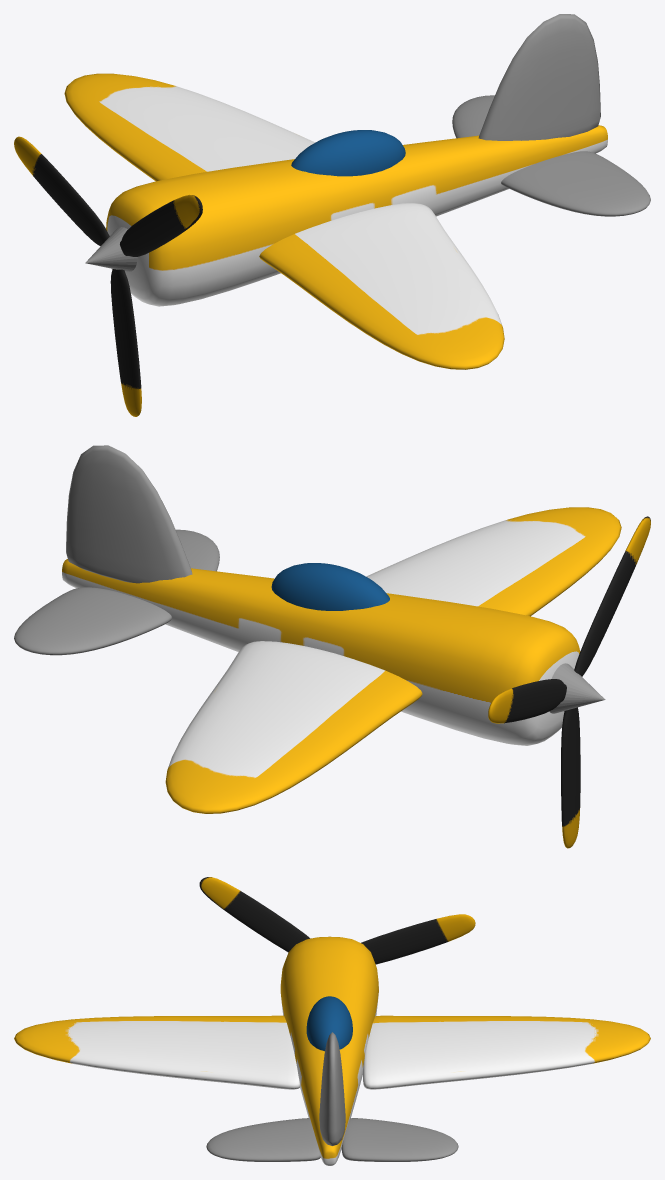
The model's file is avioneta.FBX.
3 renders of one model, top to bottom at view 1: azimuth 30°, elevation 25°; view 2: azimuth 150°, elevation 25°; view 3: azimuth 270°, elevation 25°, orthographic. The views are drawn at different scales.
Parts seen in each view (by area): view 1: Cube.004, plane, Cube.006, Cube.005, Sphere, Cube.001, Cube, Cube.002, Cone; view 2: Cube.004, plane, Cube.006, Cube.005, Sphere, Cube.002, Cube.001, Cube, Cone; view 3: Cube.004, plane, Cube.005, Cube.002, Cube, Cube.006, Sphere.
Part boxes in pixels (x1,y1,x2,y2): Cube.004: (64,73,504,369); plane: (106,125,607,306); Cube.006: (478,14,600,140); Cube.005: (452,95,650,216); Sphere: (291,130,405,176); Cube.001: (110,269,141,416); Cube: (14,136,109,245); Cube.002: (120,195,202,256); Cone: (85,227,137,271); Cube.004: (165,507,621,813); plane: (62,559,580,745); Cube.006: (66,445,192,583); Cube.005: (14,529,219,655); Sphere: (271,563,389,610); Cube.002: (574,516,650,676); Cube.001: (561,707,580,848); Cube: (488,679,566,723); Cone: (549,663,605,713); Cube.004: (14,1015,650,1089); plane: (280,936,378,1165); Cube.005: (206,1118,458,1161); Cube.002: (199,877,310,952); Cube: (361,914,475,964); Cube.006: (319,1032,345,1145); Sphere: (306,996,352,1051).
Bounding box in the file's own units: 151 × 79.7 × 198.
